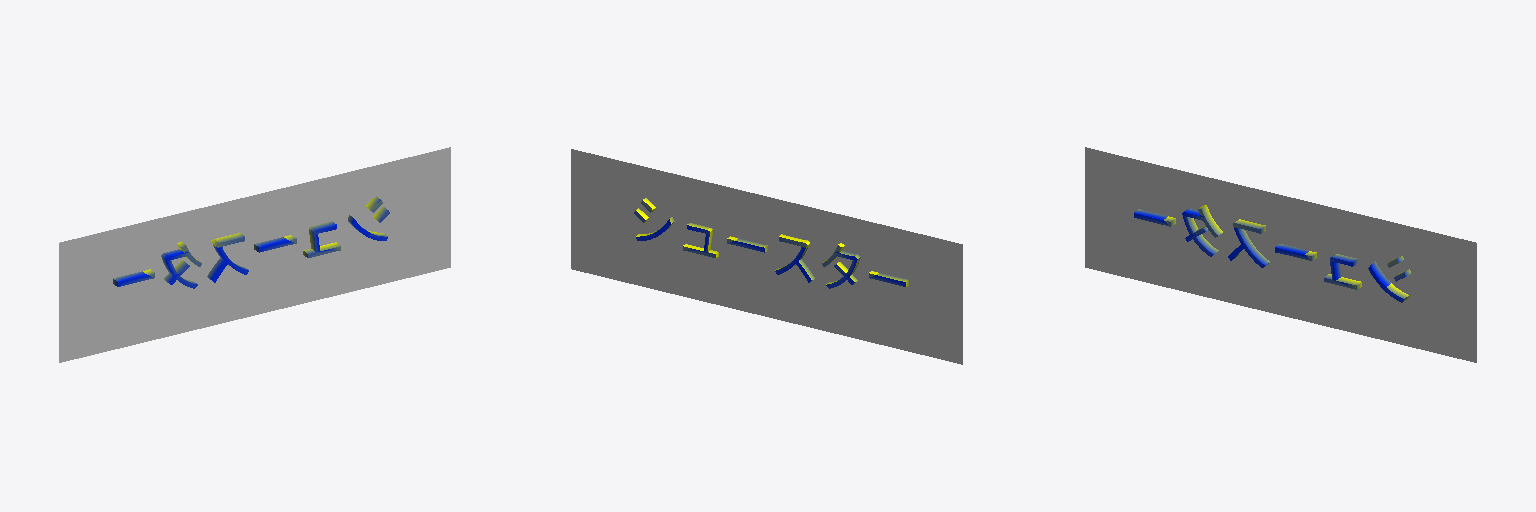
3 renders of one model, left to right at view 1: azimuth 30°, elevation 25°; view 2: azimuth 150°, elevation 25°; view 3: azimuth 330°, elevation 25°, orthographic.
Visible parts, largest first — view 1: 平面, テキスト.001; view 2: 平面, テキスト.001; view 3: 平面, テキスト.001.
Boxes of the visible parts, box(x1,y1,x2,y2) form: 平面: box(59, 147, 450, 362); テキスト.001: box(113, 196, 389, 288); 平面: box(571, 149, 962, 364); テキスト.001: box(634, 198, 908, 288); 平面: box(1085, 147, 1476, 362); テキスト.001: box(1134, 205, 1410, 302).
Bounding box in the file's own units: 13.97 × 4.11 × 0.5124.
Materials: 2 (1 with a texture image).